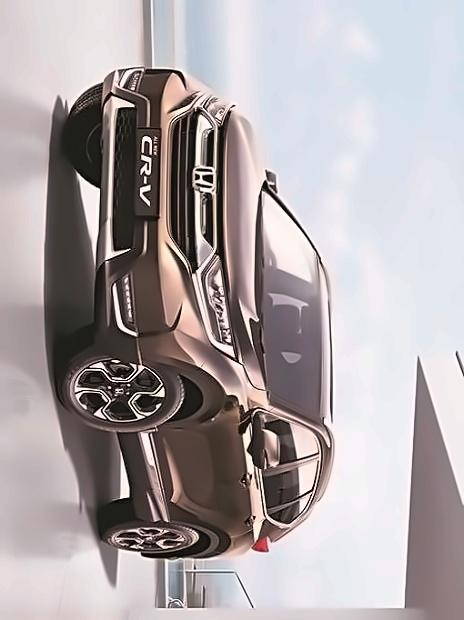Car hood: (219, 104, 273, 391)
Fender - -F-L-: (80, 325, 260, 447)
Front bumper: (90, 61, 207, 359)
Headlight - -L-: (197, 250, 238, 363)
Headlight - -R-: (199, 91, 240, 138)
Passenger-s door - -F-L-: (95, 403, 339, 492)
Passenger-s door - -R-L-: (109, 467, 339, 538)
Side bumper - -L-: (109, 419, 170, 528)
Side mirror - -L-: (244, 411, 284, 474)
